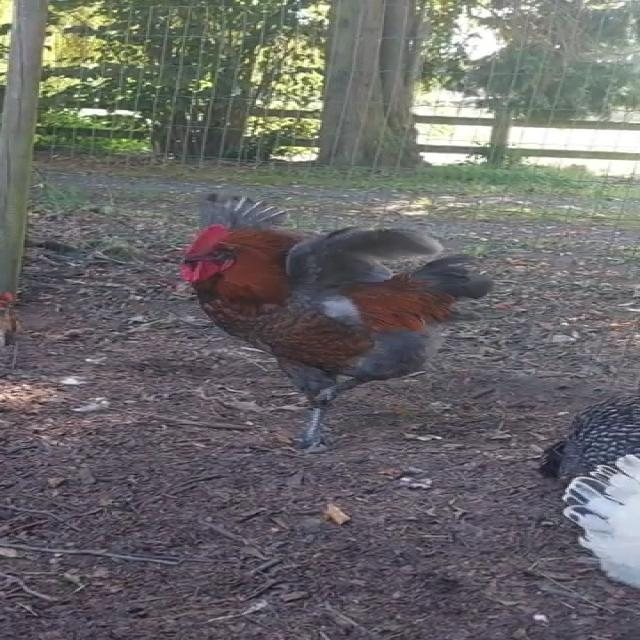wing and leg stretching: (174, 174, 491, 470)
